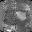people: (16, 11, 26, 21)
